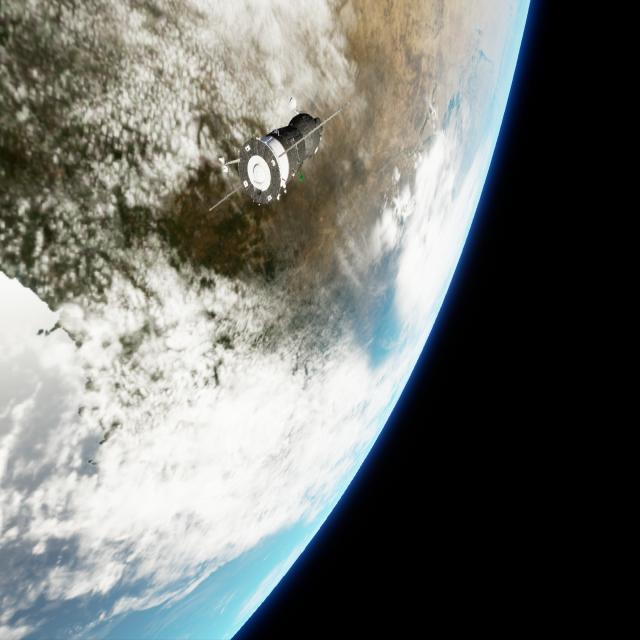Satellites revolving around earth: (1, 1, 531, 638)
